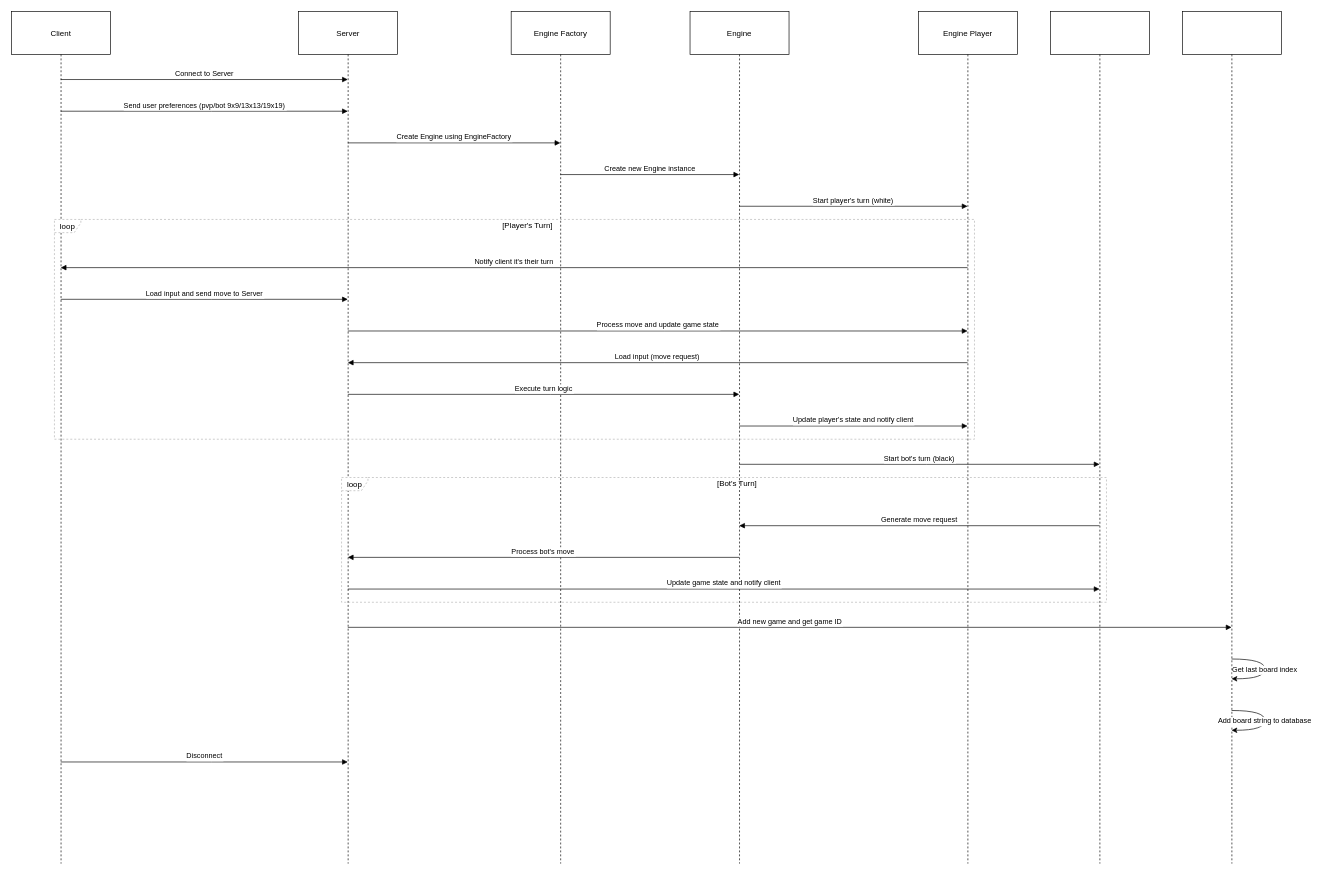
The diagram is 1324 pixels wide and 875 high, and some of its shapes have lost their labels. The shapes that lost their labels are listed below. From the top down, each one's box as (x1, y1, x2, y2) in pixels, then its label:
(1050, 11, 1149, 864): Bot player
(1182, 11, 1281, 864): DB Menager
